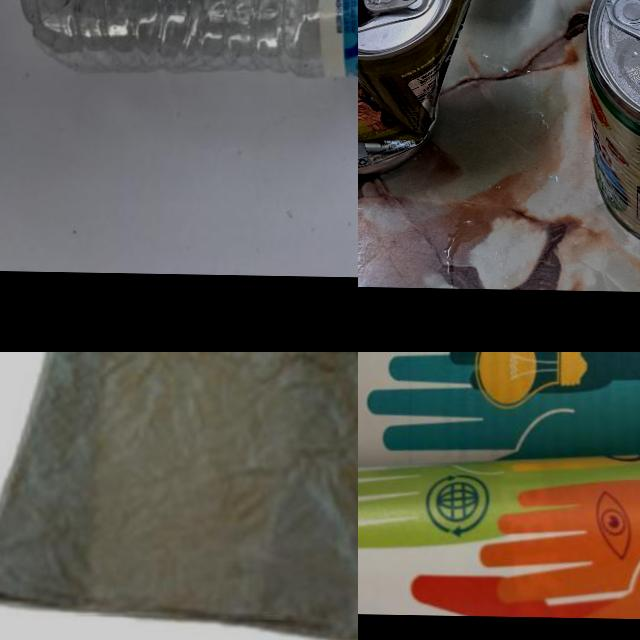aba de lata: (605, 0, 640, 54), (362, 0, 424, 11)
garrafa plástica: (15, 0, 358, 85)
lata: (358, 0, 482, 179)
papel: (358, 352, 640, 621)
sacola plástica: (0, 352, 358, 640)
